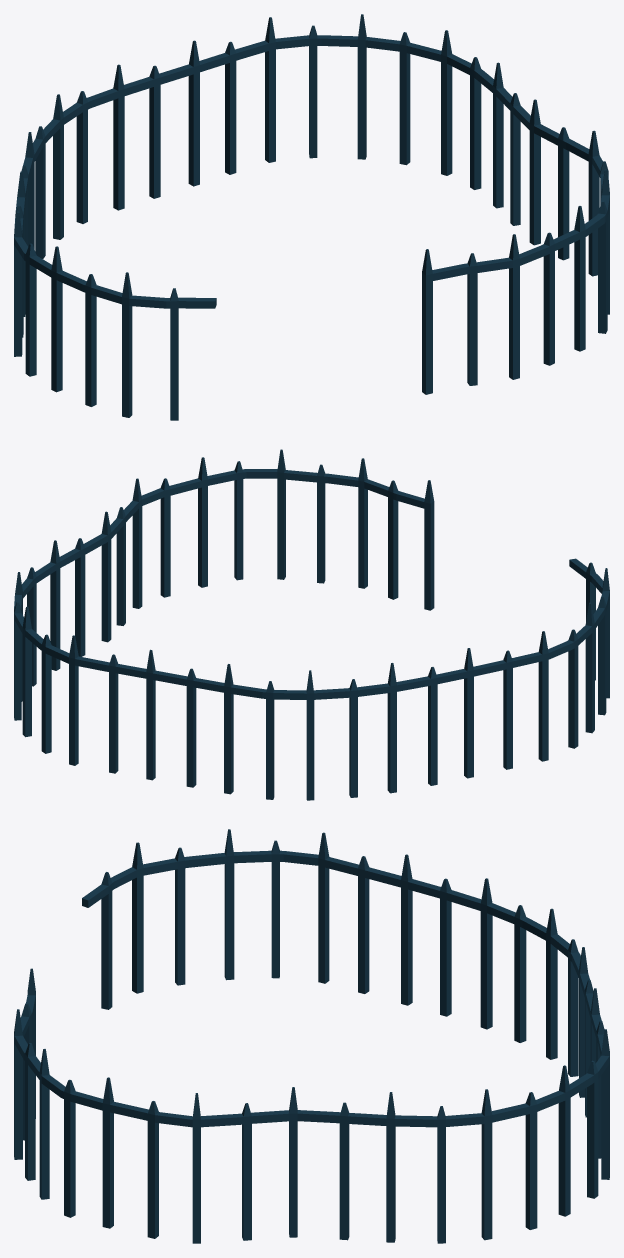
Rendered from fence.fbx.
The picture shows the model from 3 angles, top to bottom: view 1: azimuth 30°, elevation 25°; view 2: azimuth 150°, elevation 25°; view 3: azimuth 270°, elevation 25°; orthographic projection. The views are drawn at different scales.
Parts seen in each view (by area): view 1: fence; view 2: fence; view 3: fence.
Boxes of the visible parts, x1,y1,x2,y2 form: fence: (14,14,609,420); fence: (14,449,609,800); fence: (14,829,609,1243).
Bounding box in the file's own units: 1262 × 324 × 1182.
